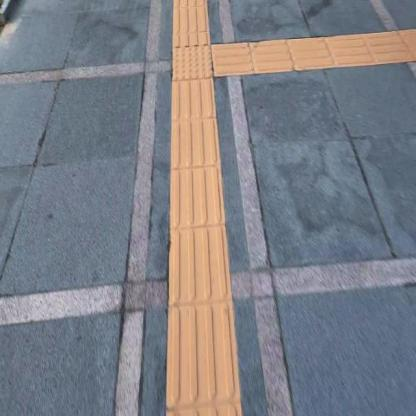podotacti: (164, 80, 247, 415), (214, 24, 416, 78), (158, 23, 230, 105), (171, 0, 212, 46)
